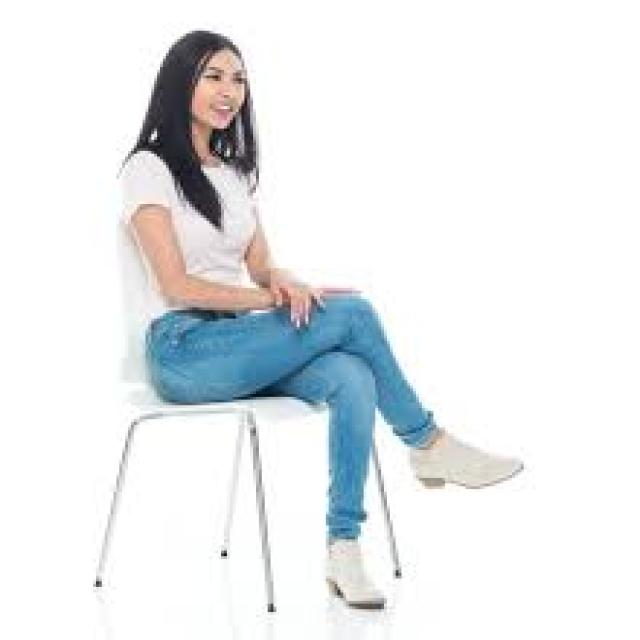nonfall: (112, 27, 538, 611)
